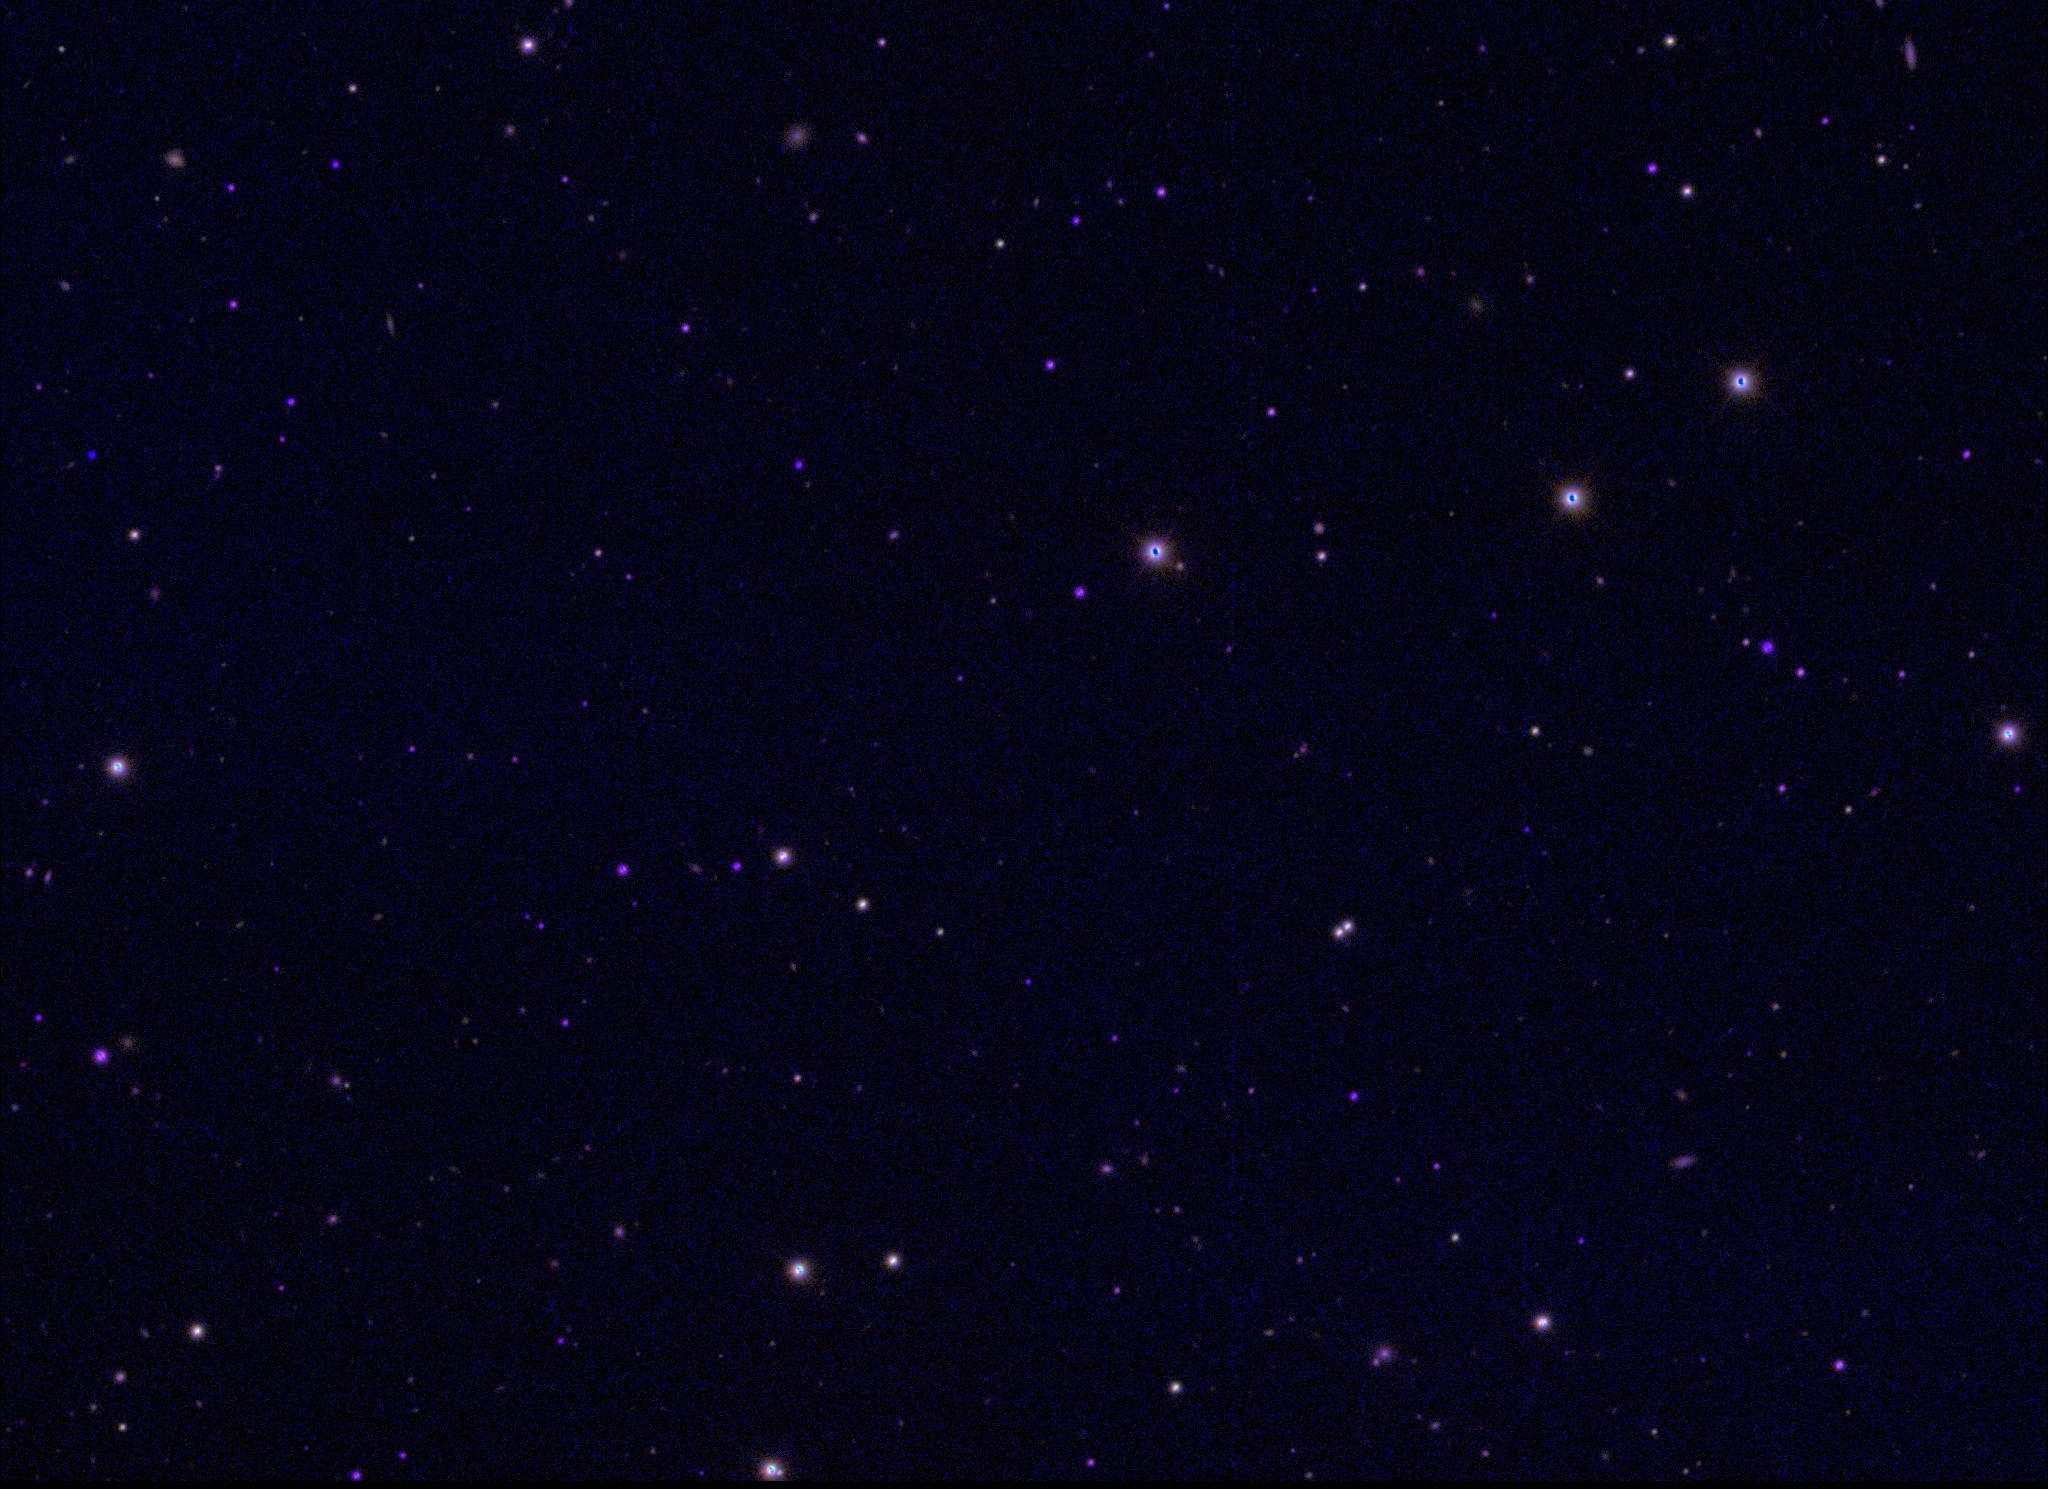L: (83, 452, 97, 466)
